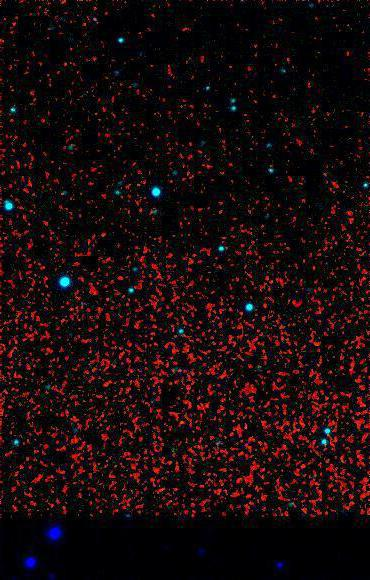star: (89, 220, 119, 250)
